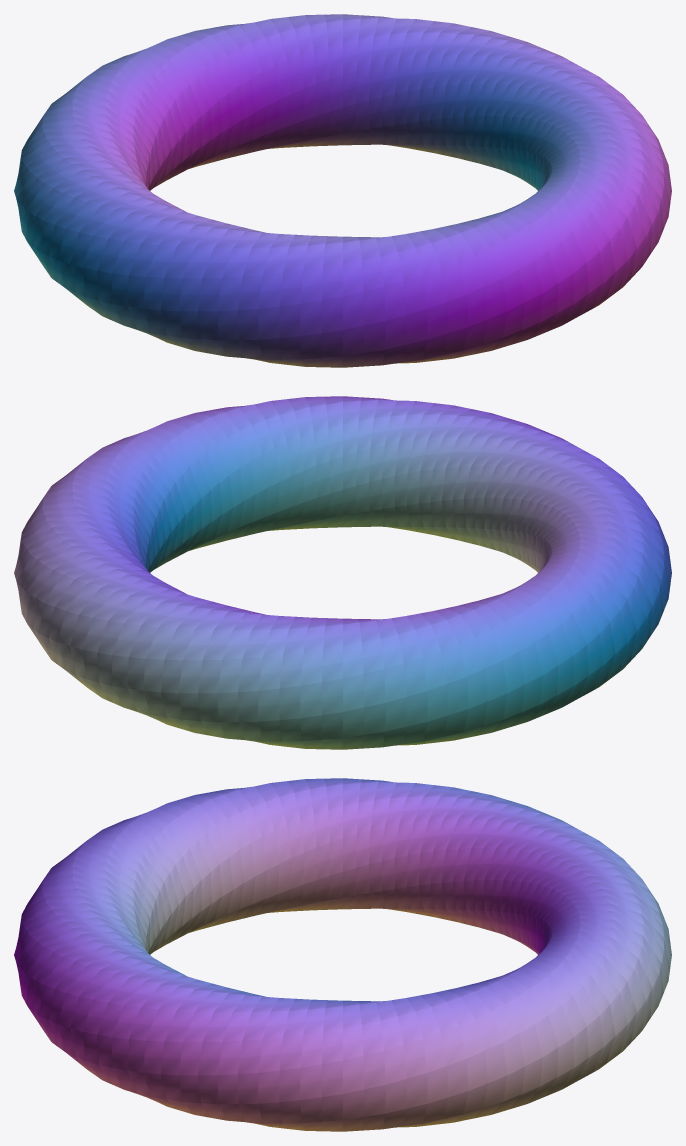
File: TwistedTorus.fbx
3 views of the same model, one above another, from view 1: azimuth 30°, elevation 25°; view 2: azimuth 150°, elevation 25°; view 3: azimuth 270°, elevation 25° (orthographic).
Parts seen in each view (by area): view 1: TwistedTorus; view 2: TwistedTorus; view 3: TwistedTorus.
Boxes of the visible parts, x1,y1,x2,y2 form: TwistedTorus: [14, 14, 671, 367]; TwistedTorus: [14, 396, 671, 749]; TwistedTorus: [14, 778, 671, 1131].
Bounding box in the file's own units: 250 × 50 × 250.
